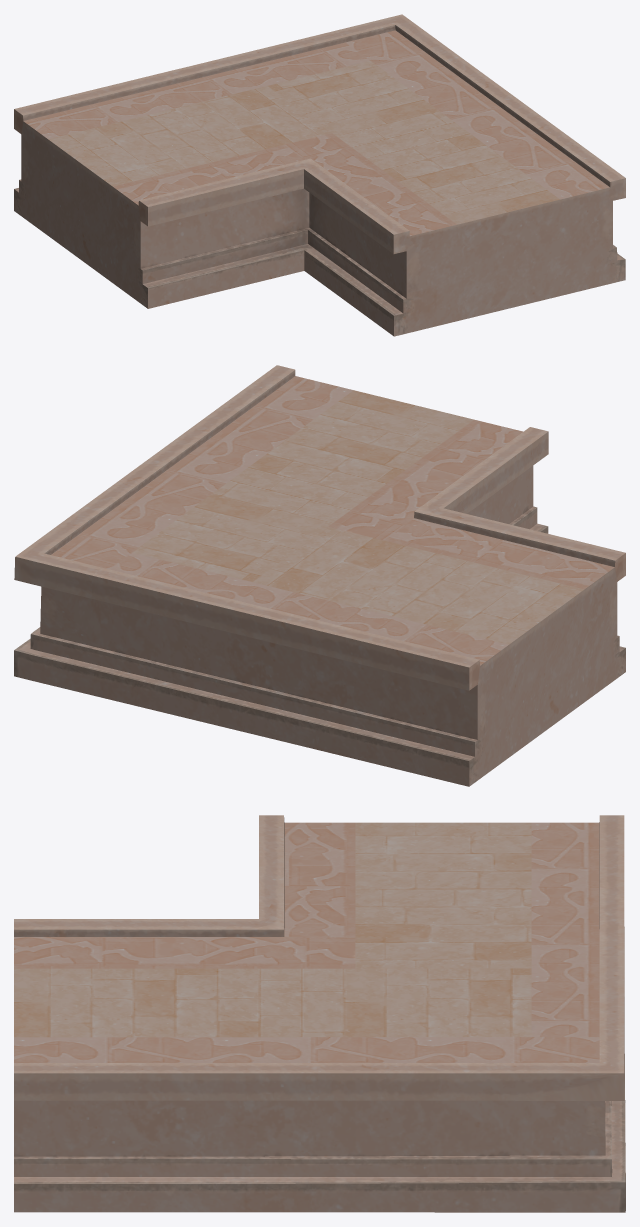
The model's file is 左拐路段.fbx.
3 renders of one model, top to bottom at view 1: azimuth 30°, elevation 25°; view 2: azimuth 150°, elevation 25°; view 3: azimuth 270°, elevation 25°, orthographic. The views are drawn at different scales.
Parts seen in each view (by area): view 1: 平面.021; view 2: 平面.021; view 3: 平面.021.
Part boxes in pixels (x1,y1,x2,y2): 平面.021: (14,14,625,336); 平面.021: (14,365,625,786); 平面.021: (14,815,625,1212).
Bounding box in the file's own units: 519 × 130 × 519.
